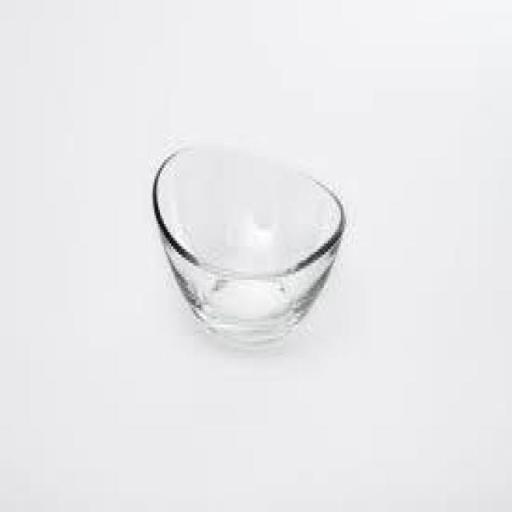glass: (148, 120, 354, 360)
